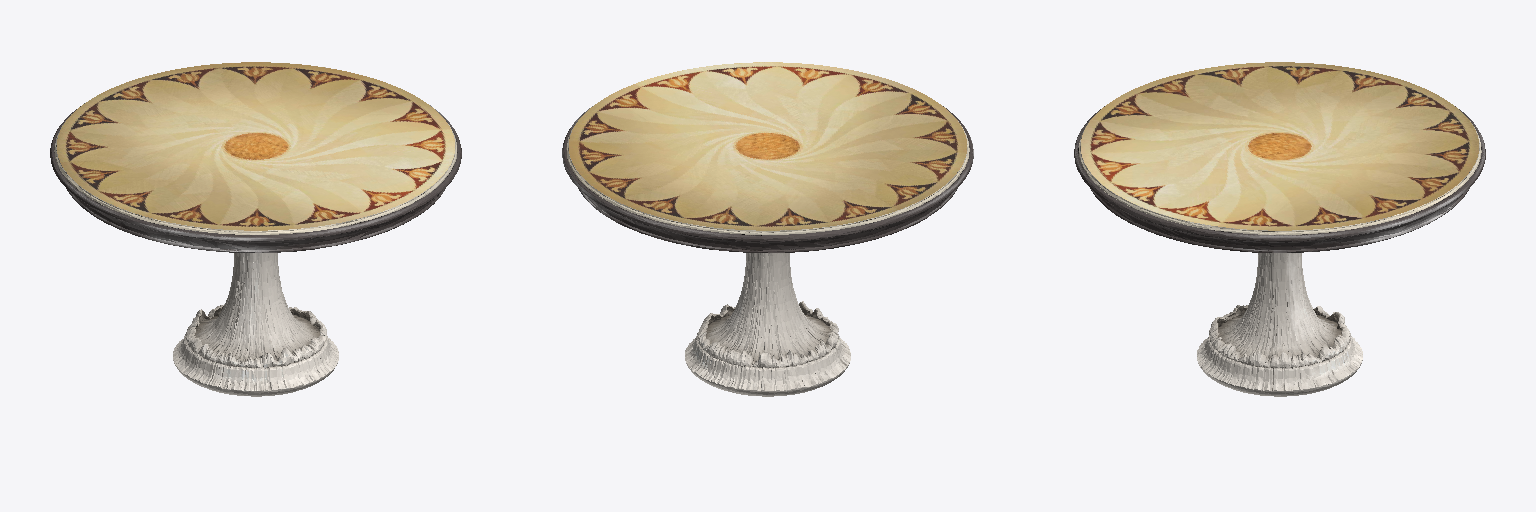
3 views of the same model, side by side, from view 1: azimuth 30°, elevation 25°; view 2: azimuth 150°, elevation 25°; view 3: azimuth 270°, elevation 25° (orthographic).
Parts seen in each view (by area): view 1: solid_003, solid_002, solid_001, solid_004; view 2: solid_003, solid_002, solid_001, solid_004; view 3: solid_003, solid_002, solid_001, solid_004.
Boxes of the visible parts, x1,y1,x2,y2 form: solid_003: [57, 62, 454, 230]; solid_002: [173, 253, 338, 396]; solid_001: [50, 103, 461, 252]; solid_004: [54, 67, 456, 234]; solid_003: [569, 62, 966, 230]; solid_002: [685, 253, 850, 396]; solid_001: [562, 106, 973, 252]; solid_004: [566, 121, 969, 234]; solid_003: [1081, 62, 1478, 230]; solid_002: [1197, 253, 1362, 396]; solid_001: [1074, 106, 1485, 252]; solid_004: [1079, 121, 1481, 234].
Size of the model in its own units: 1.33 by 0.7799 by 1.33.
Materials: 1 (1 with a texture image).